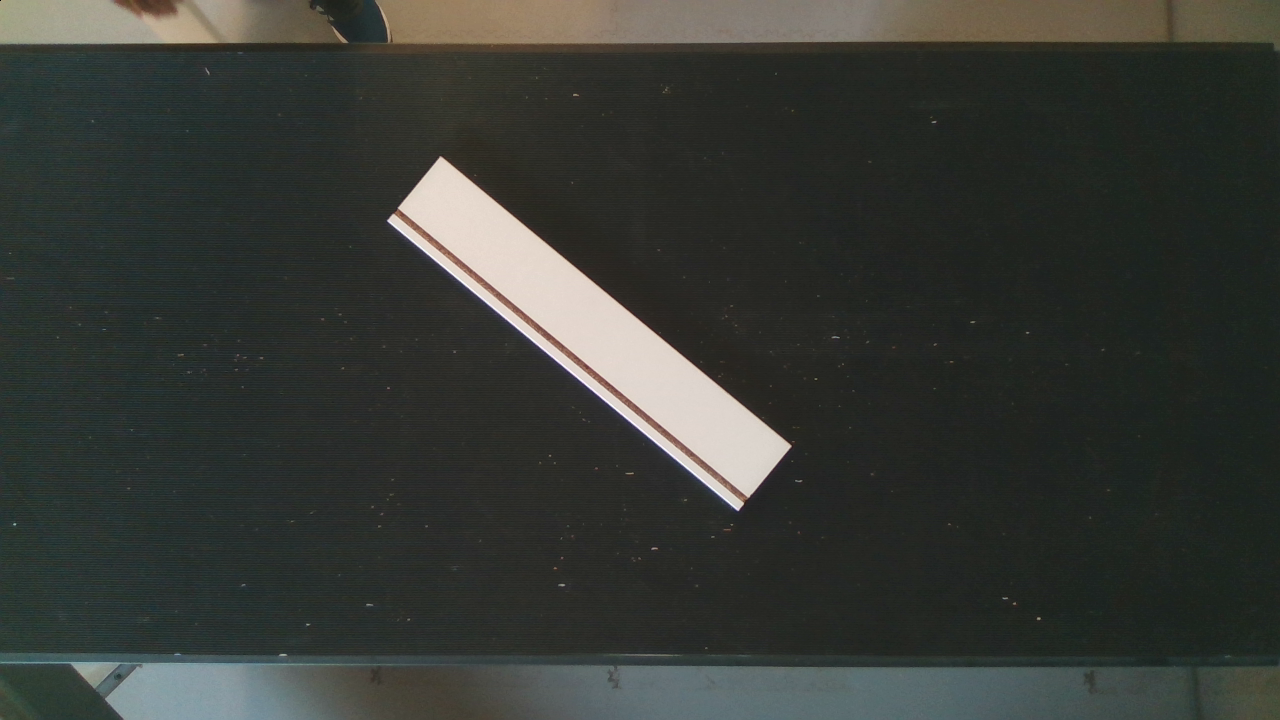part1: (384, 111, 804, 544)
